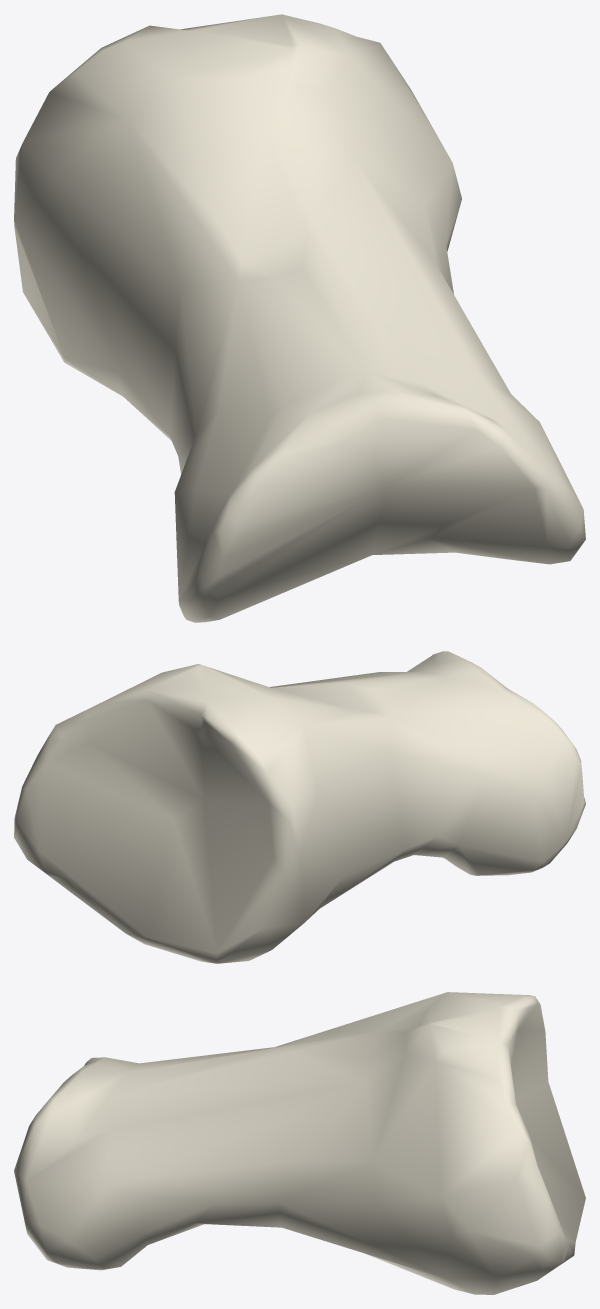
3 renders of one model, top to bottom at view 1: azimuth 30°, elevation 25°; view 2: azimuth 150°, elevation 25°; view 3: azimuth 270°, elevation 25°, orthographic. The views are drawn at different scales.
Parts seen in each view (by area): view 1: ZA_c07969394566b522; view 2: ZA_c07969394566b522; view 3: ZA_c07969394566b522.
Boxes of the visible parts, box(x1,y1,x2,y2) form: ZA_c07969394566b522: box(14, 14, 585, 622); ZA_c07969394566b522: box(14, 651, 585, 963); ZA_c07969394566b522: box(14, 992, 585, 1294).
Size of the model in its own units: 0.0261 by 0.0177 by 0.0345.
